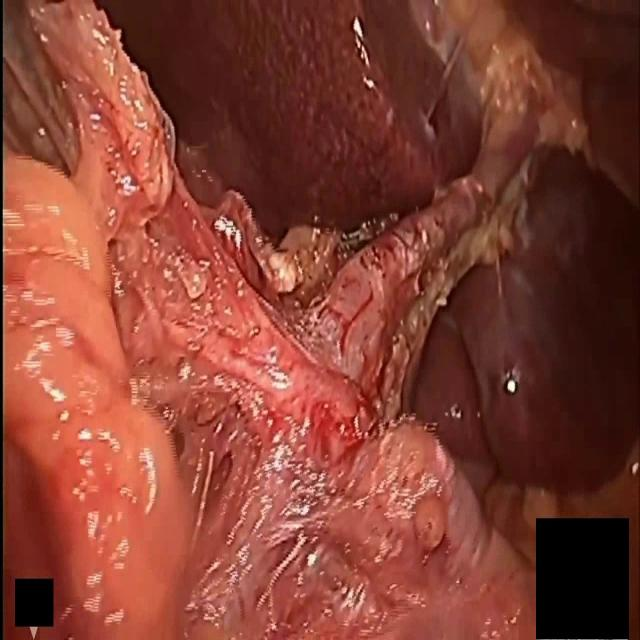surgical-area: (2, 1, 640, 639)
